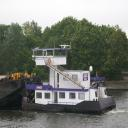tugboat: (22, 45, 118, 118)
